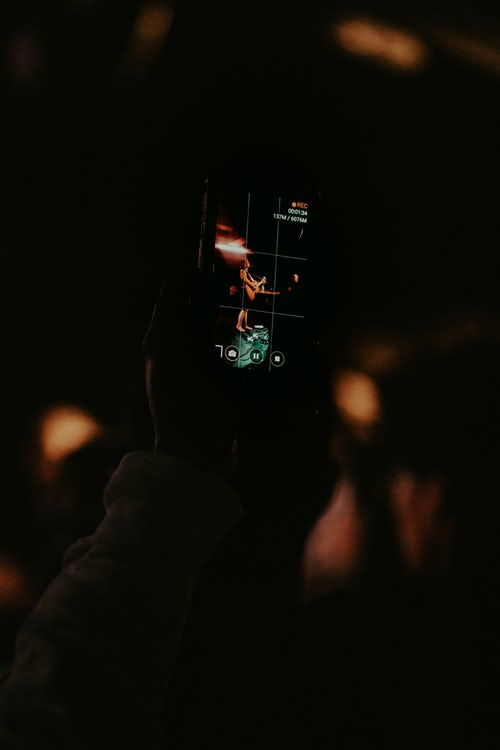phone: (191, 162, 324, 429)
